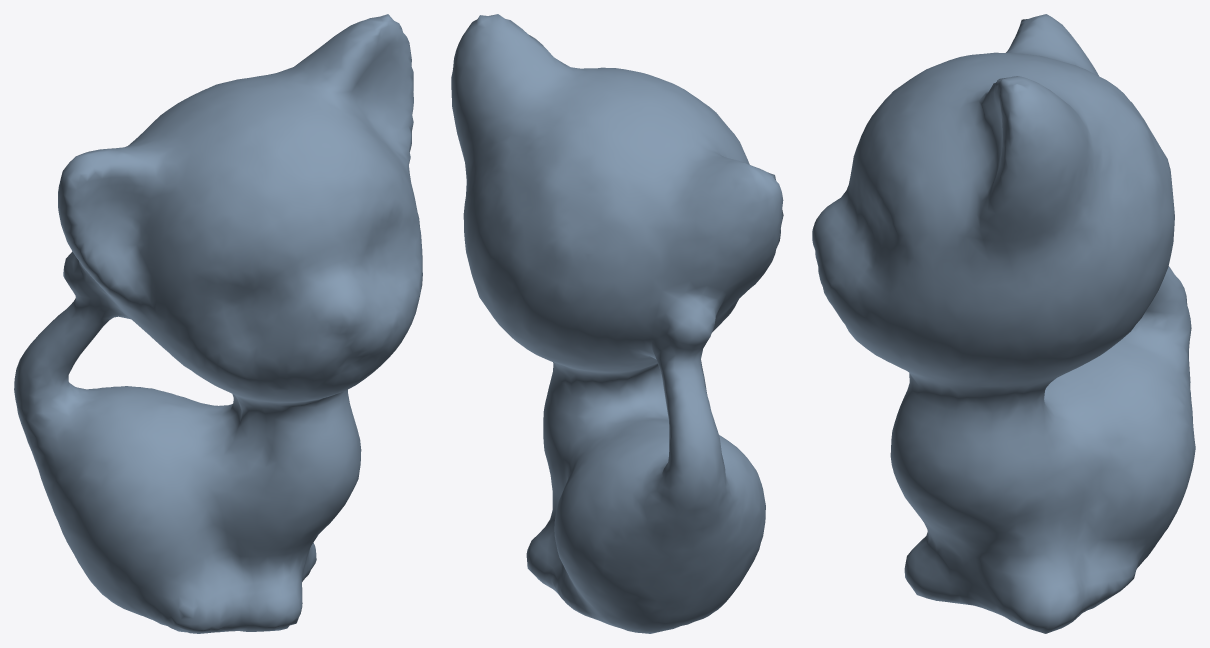
The model's file is kitten_quads.glb.
3 renders of one model, left to right at view 1: azimuth 30°, elevation 25°; view 2: azimuth 150°, elevation 25°; view 3: azimuth 270°, elevation 25°, orthographic. The views are drawn at different scales.
Bounding box in the file's own units: 59.47 × 91.57 × 54.06.
